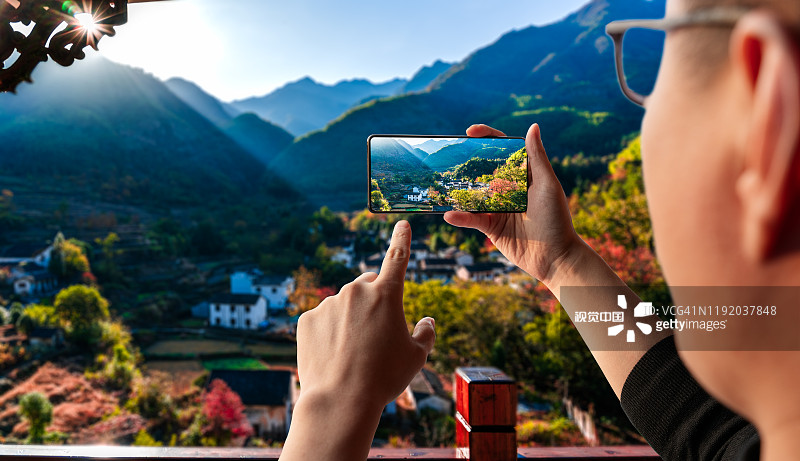no-phone: (274, 217, 457, 438)
taking photos: (364, 111, 599, 288)
